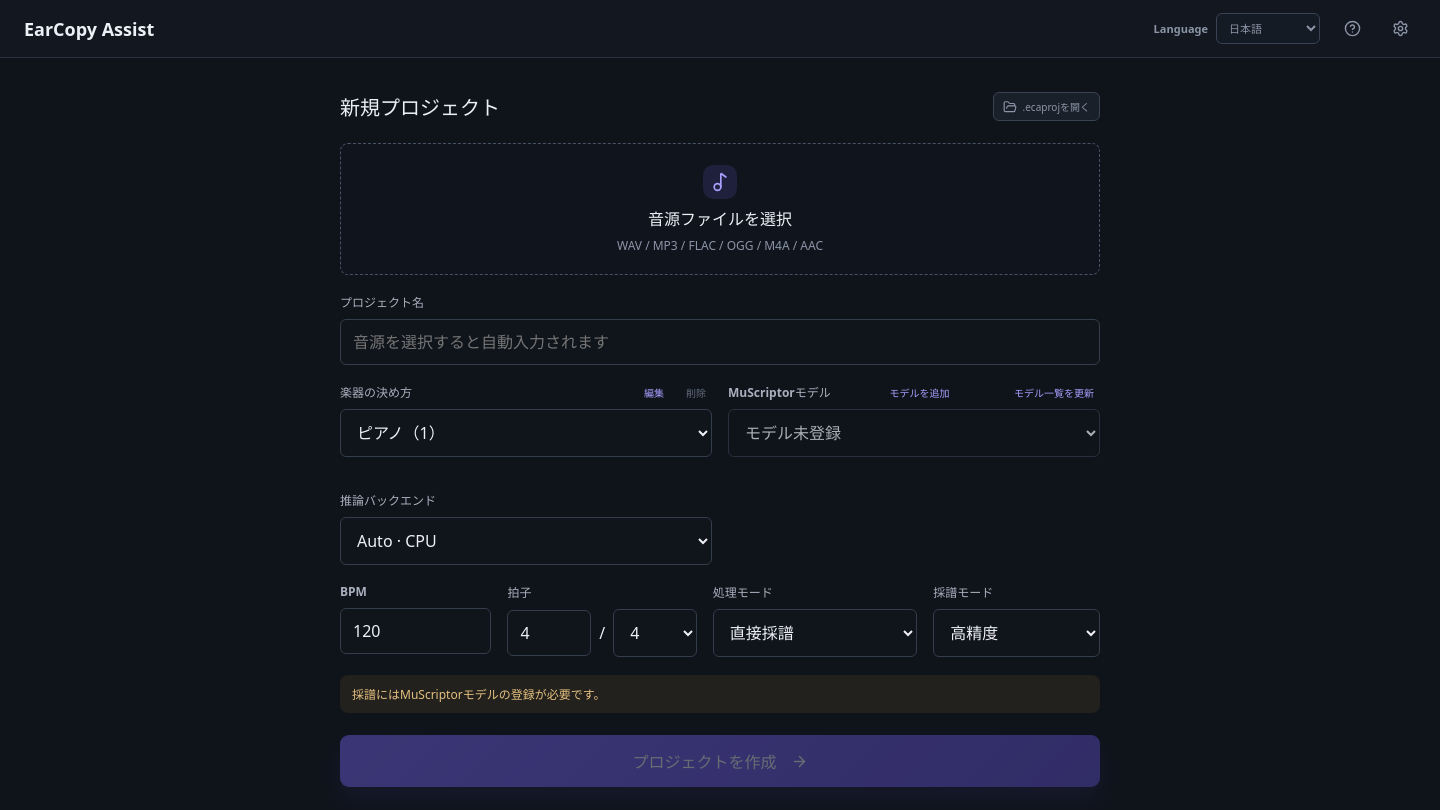
Scenario: NewProjectScreen stem separation › deletes a selected user preset and selects the first remaining preset
The width and height of the screenshot is (1440, 810).
Select "ユーザー設定（1）" in the dropdown labelled "楽器の決め方". click: (526,433)
box: [340,409,712,457]
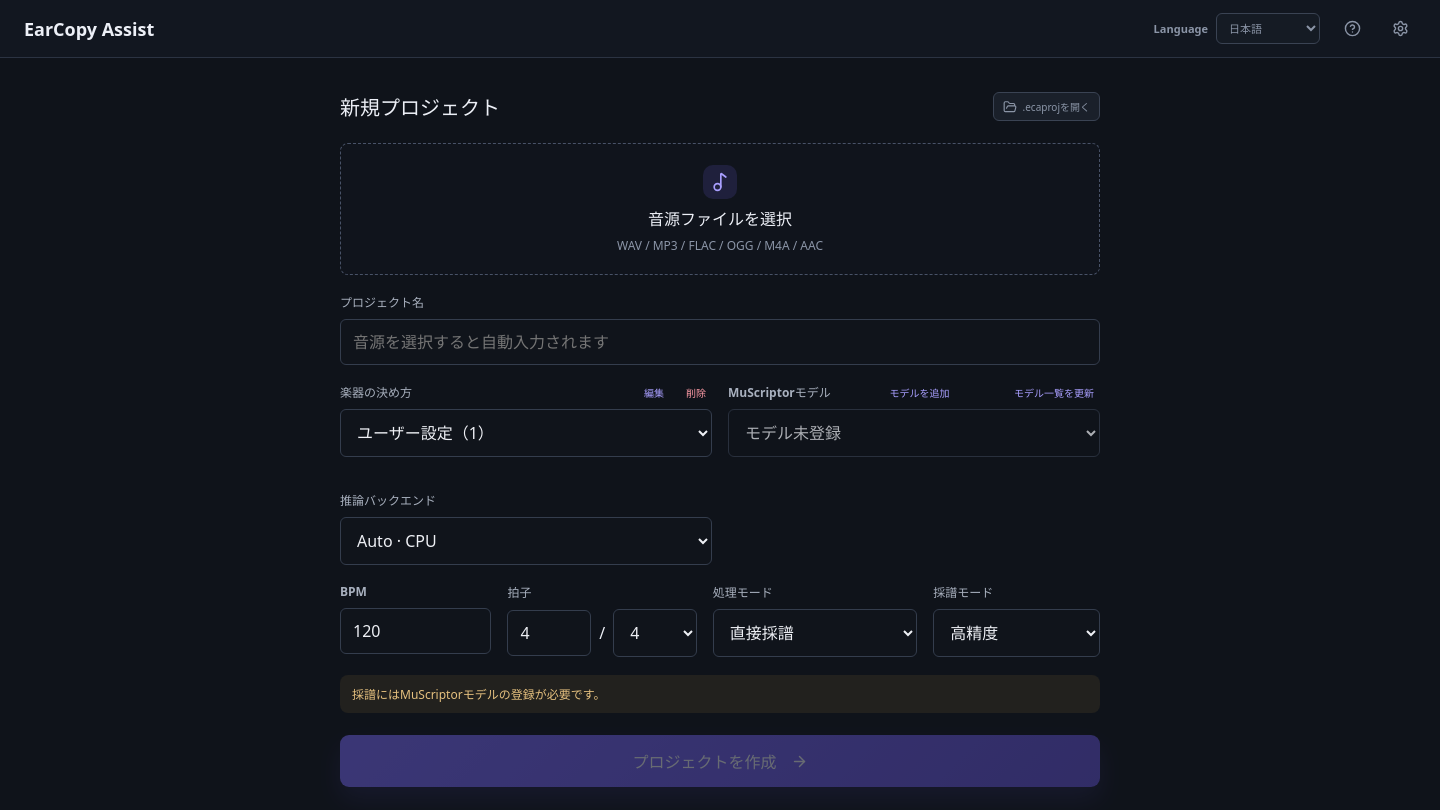
Click the button "削除". click: (696,392)
box: [680,384,712,400]
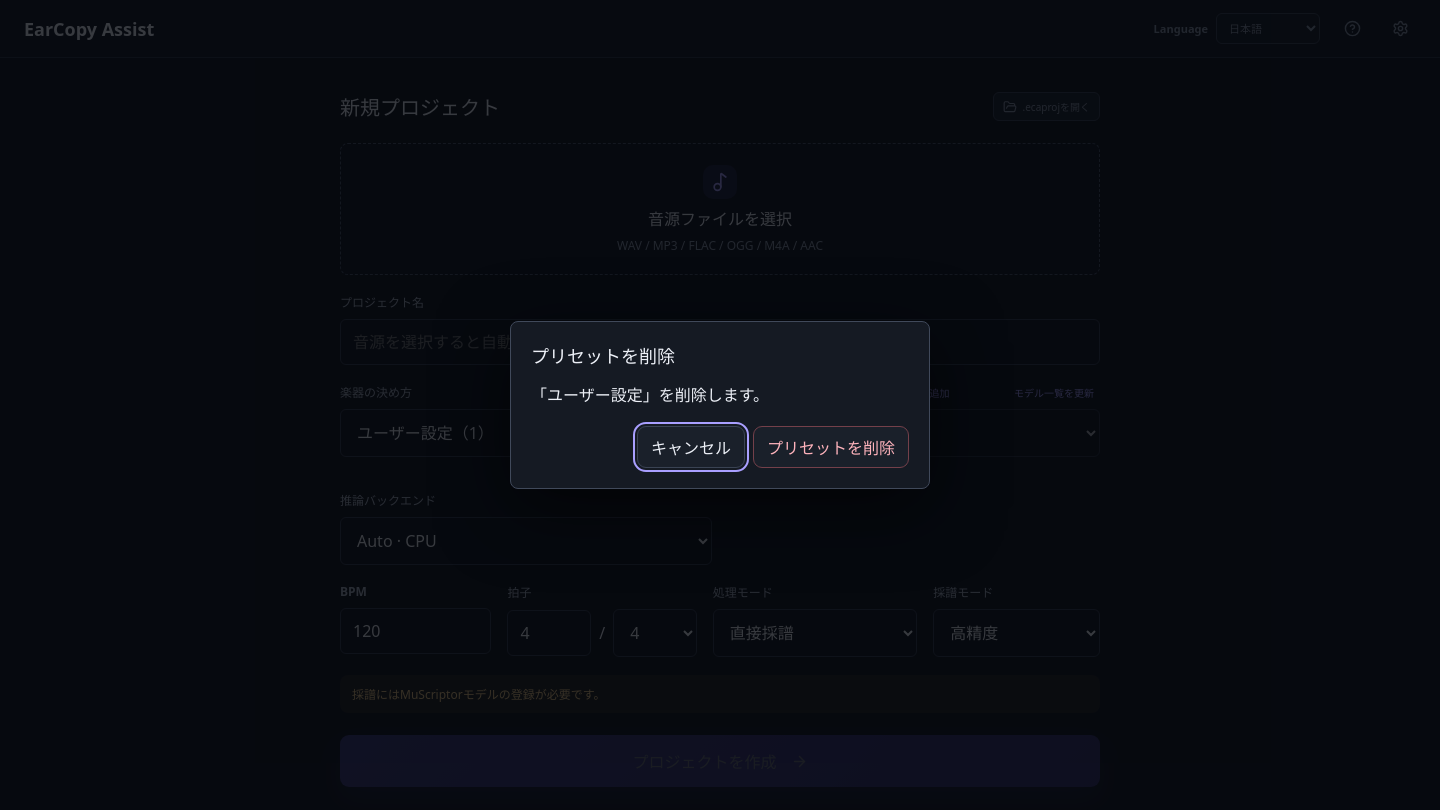
Now the dialog named "プリセット削除の確認" is shown, box [510,321,930,489]
Click the button "プリセットを削除". click: (831,447)
box: [753,426,909,468]
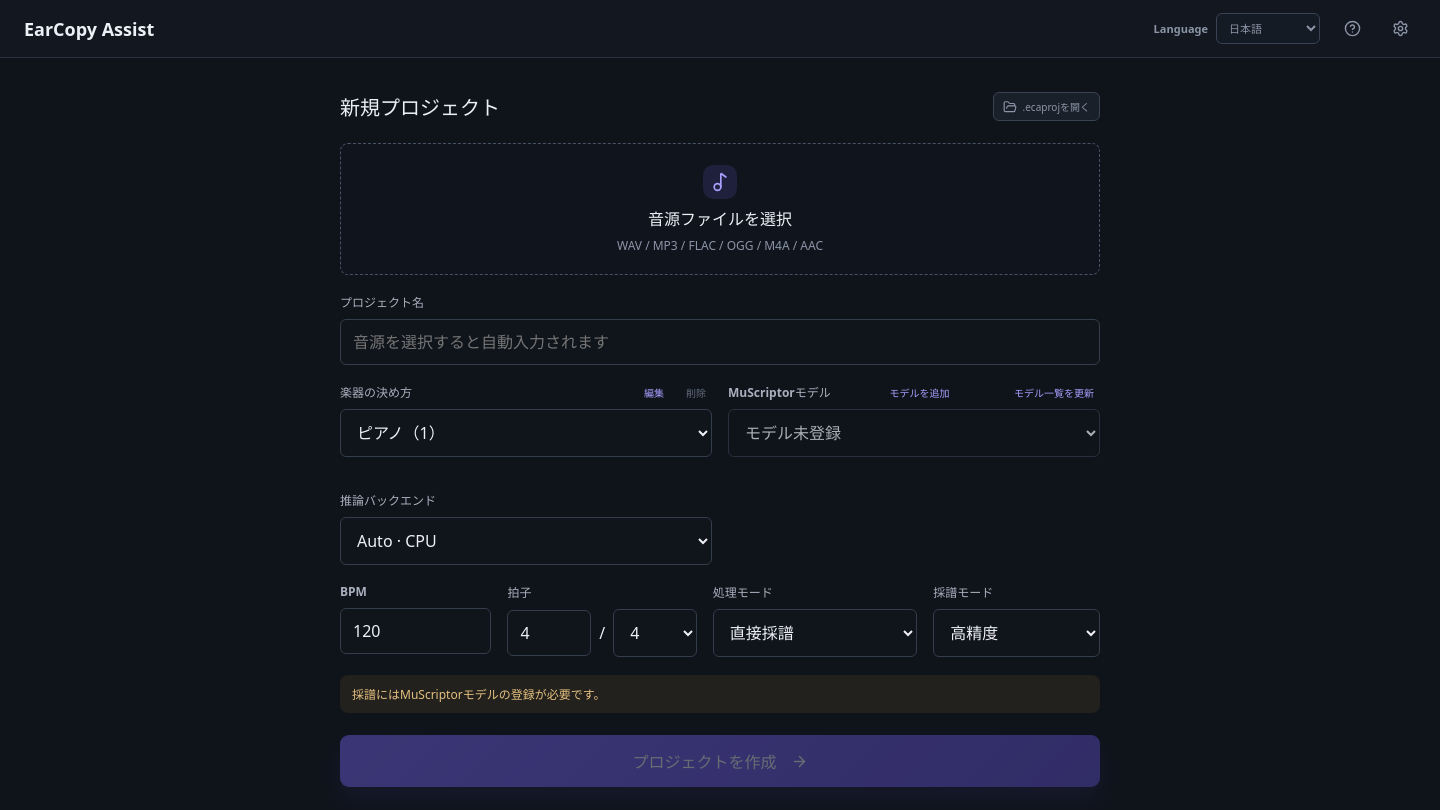
Expected: the dropdown labelled "楽器の決め方" is enabled, [340,409,712,457]
Now the dialog "プリセット削除の確認" is gone
Click the button "編集". click: (654,392)
box: [638,384,670,400]
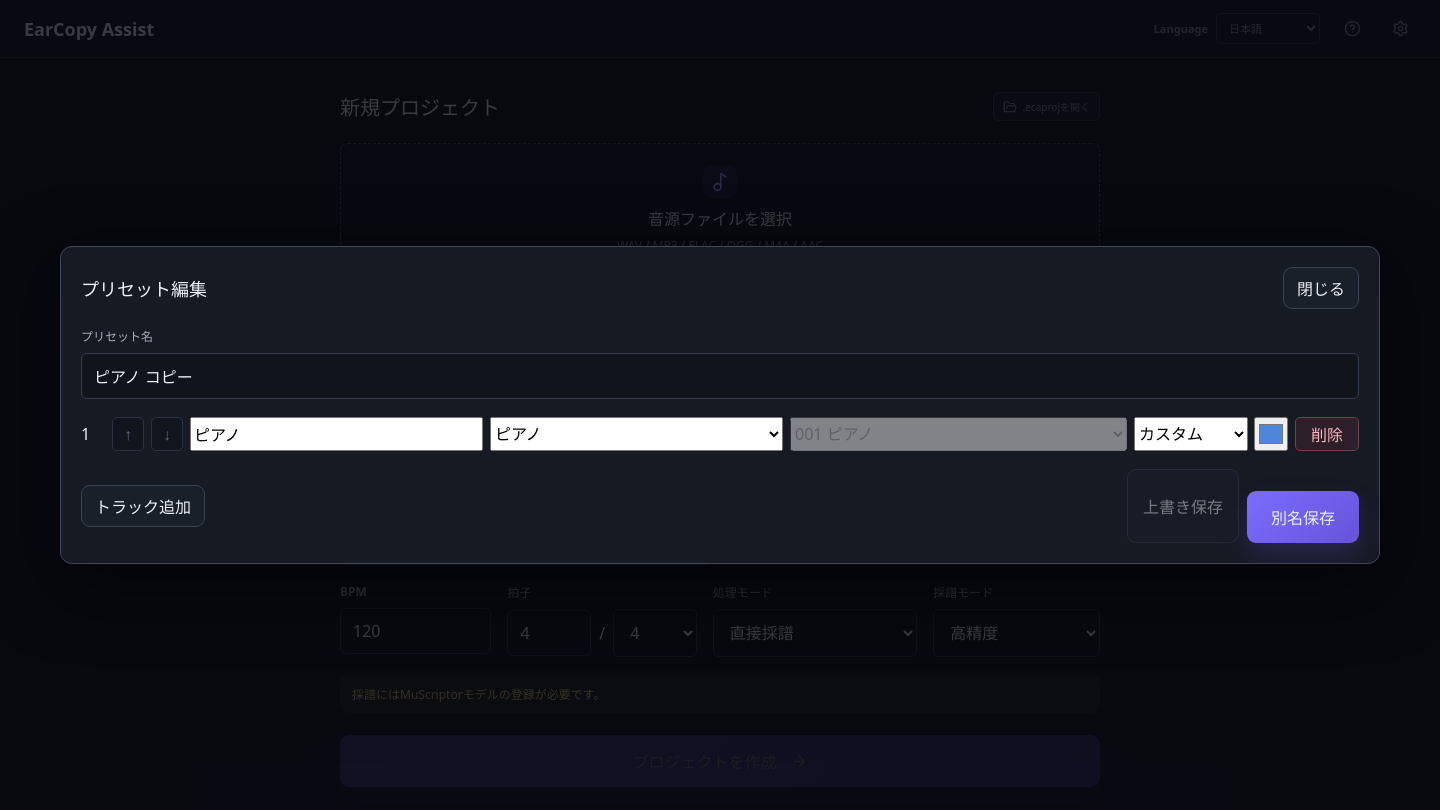
Now the dialog "プリセット編集" is shown, box [60,246,1380,564]
